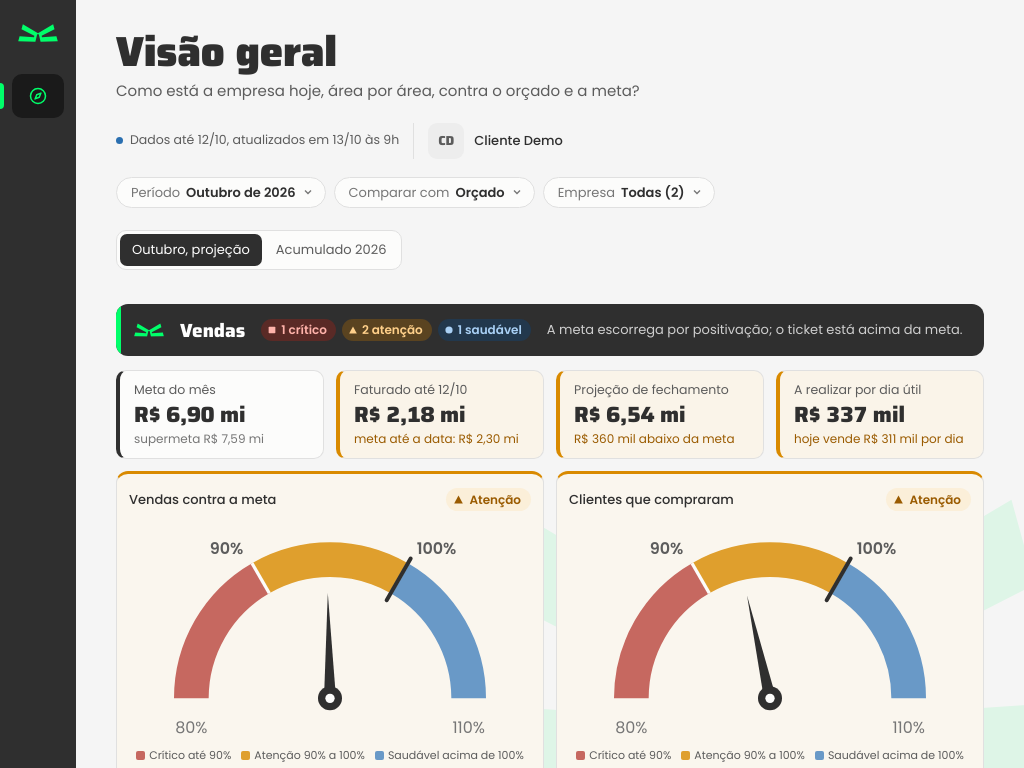
Visão geral › trocar o período muda valor, status e ponteiro do indicador e a contagem da faixa
Expected: the text "1 crítico" is shown, [261,319,336,341]
Expected: the text "2 atenção" is shown, [342,319,432,341]
Click the button "Acumulado 2026". click: (331, 250)
box: [264,234,398,266]
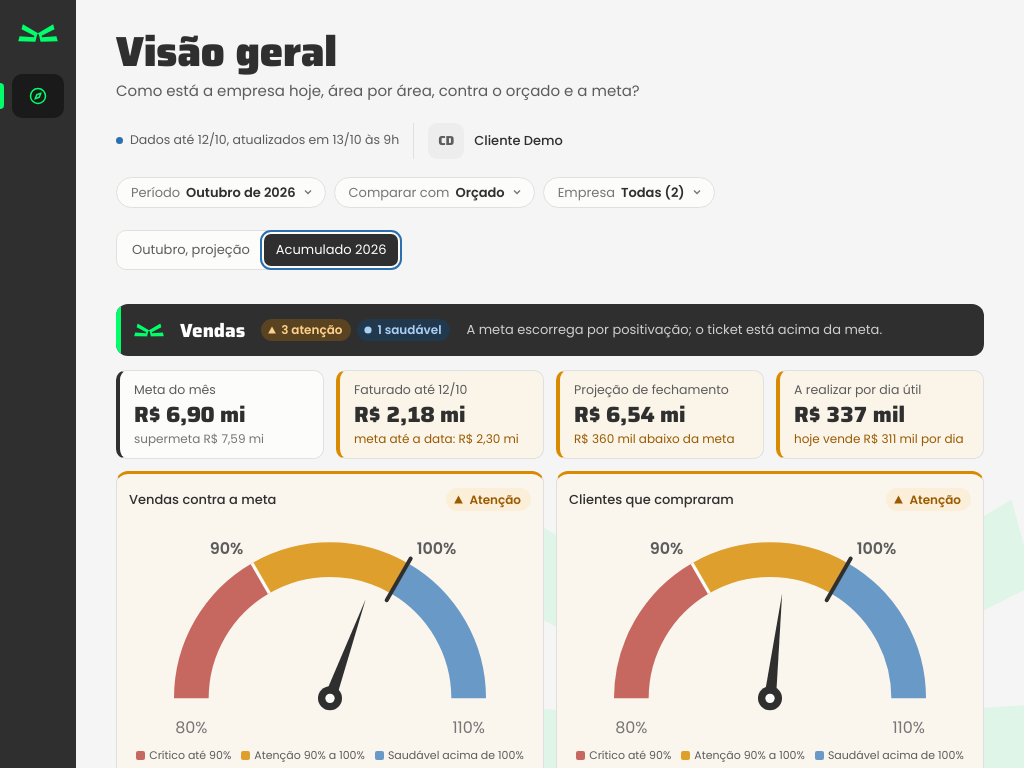
Expected: the text "1 saudável" is shown, [357,319,450,341]
Now the text "3 atenção" is shown, box [261,319,351,341]
